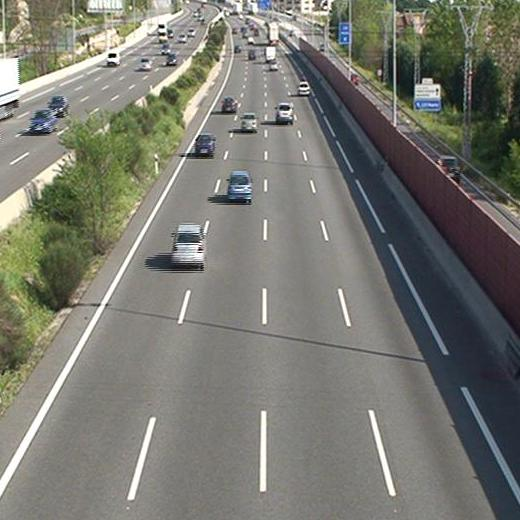car: (171, 224, 204, 264), (227, 171, 252, 199), (195, 134, 214, 153), (275, 104, 293, 122), (242, 113, 257, 132), (221, 98, 235, 112), (298, 82, 311, 95), (269, 59, 278, 70)
van: (265, 46, 275, 61)
